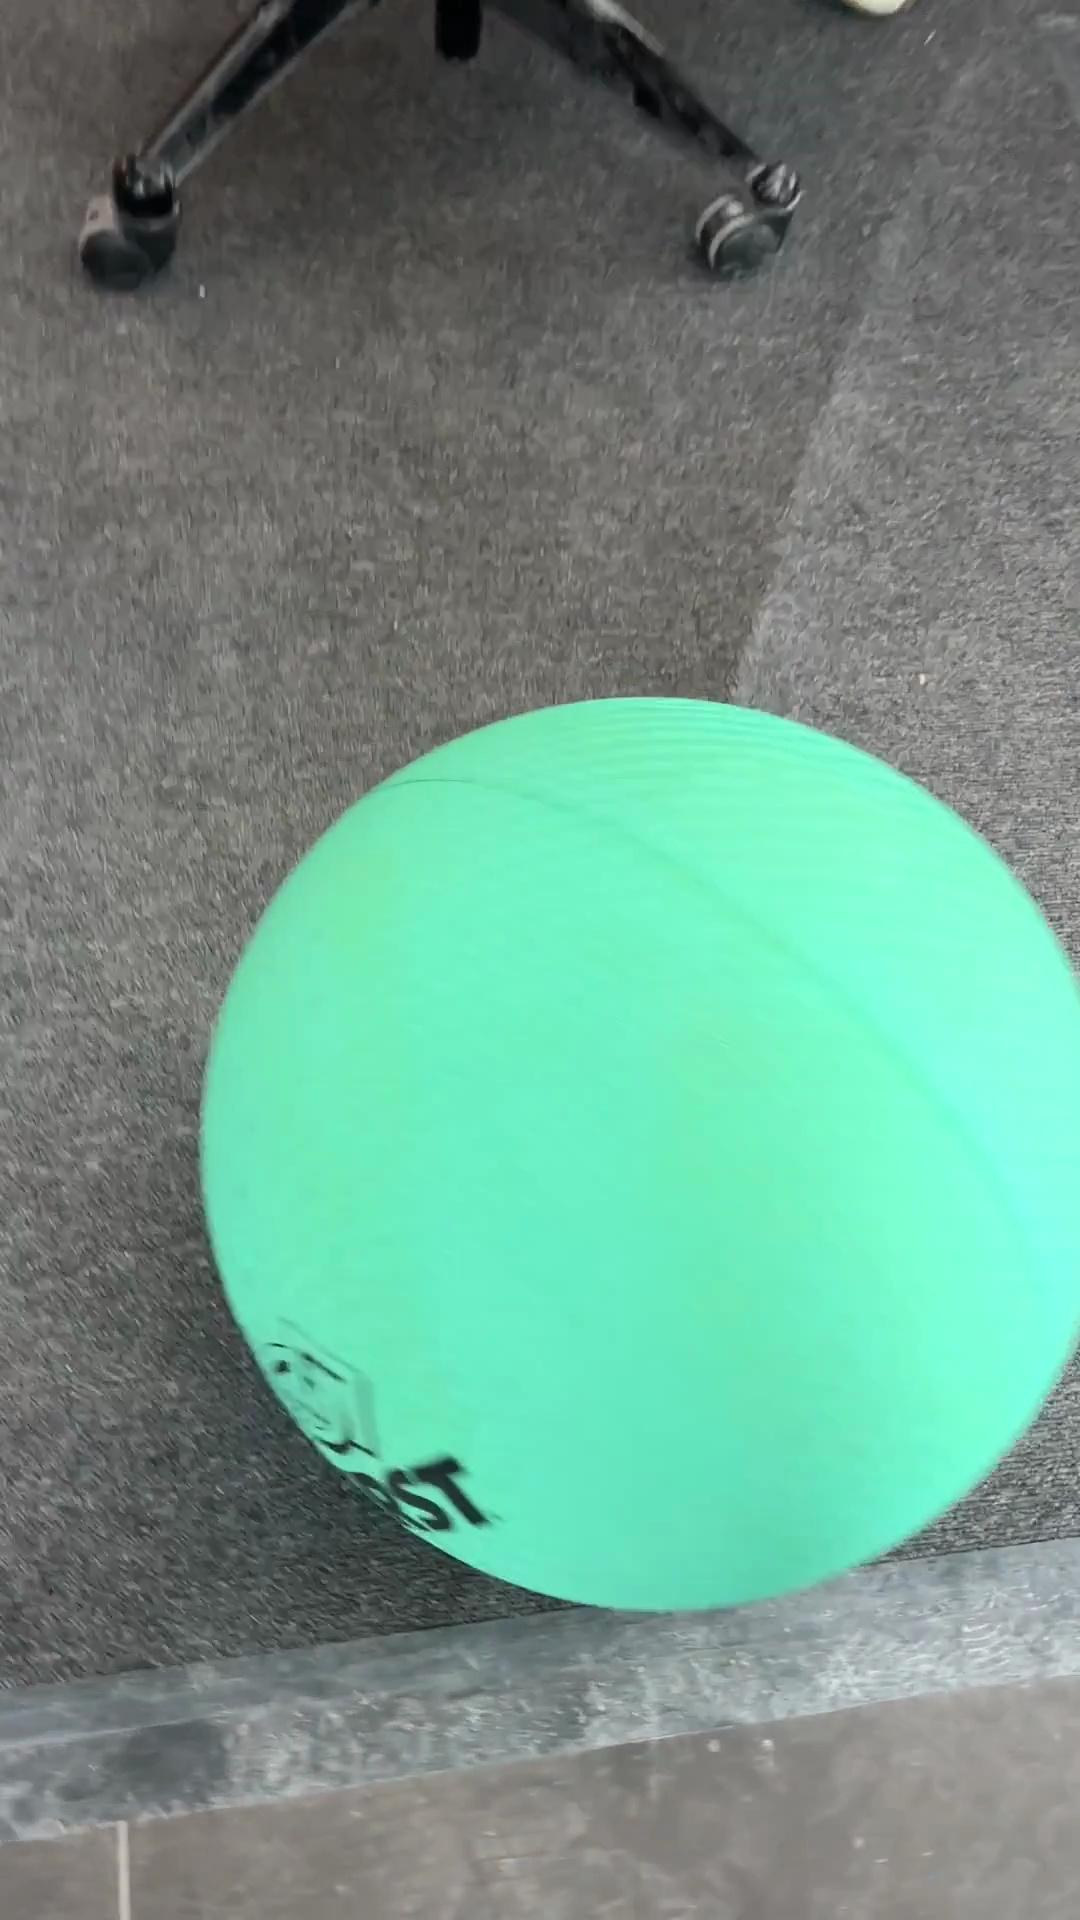ALGAE: (195, 691, 1077, 1615)
